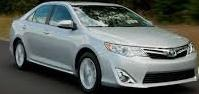Cars: (10, 3, 197, 92)
